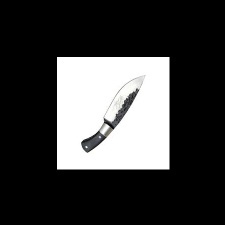k1: (102, 73, 147, 130)
